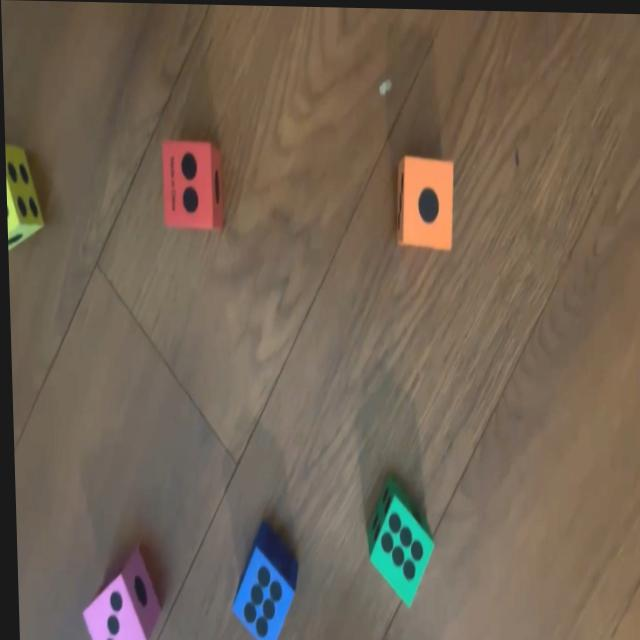cube: (360, 476, 434, 607), (224, 513, 298, 640), (160, 139, 222, 228)
